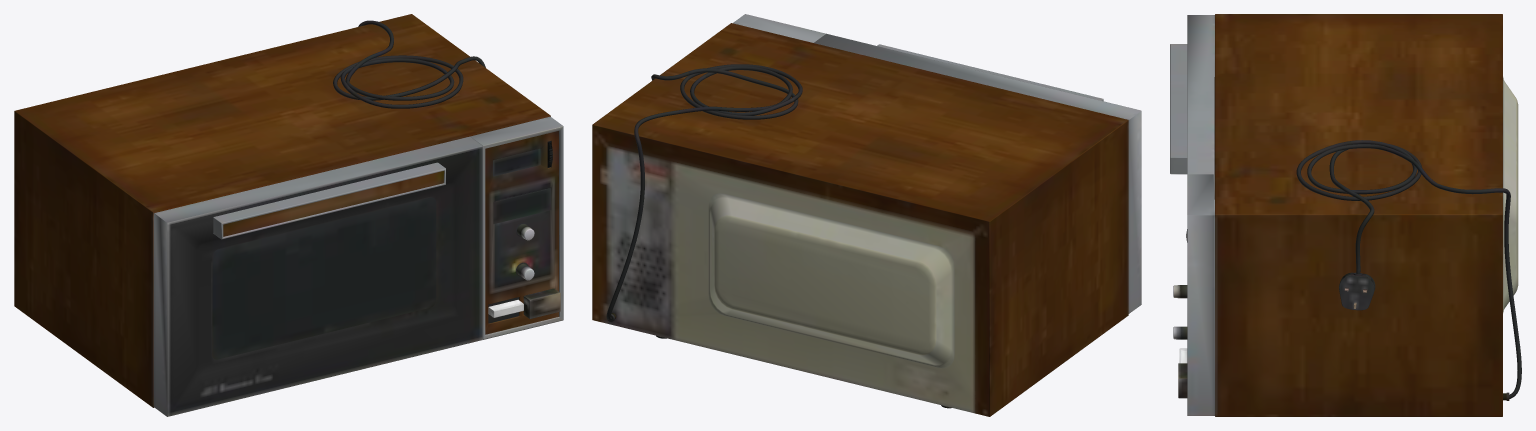
Rendered from microwave.glb.
3 renders of one model, left to right at view 1: azimuth 30°, elevation 25°; view 2: azimuth 150°, elevation 25°; view 3: azimuth 270°, elevation 25°, orthographic. The views are drawn at different scales.
Parts seen in each view (by area): view 1: vintage_microwave; view 2: vintage_microwave; view 3: vintage_microwave.
Boxes of the visible parts, x1,y1,x2,y2 form: vintage_microwave: (14, 14, 563, 416); vintage_microwave: (592, 14, 1141, 416); vintage_microwave: (1170, 14, 1521, 416).
Bounding box in the file's own units: 1.07 × 0.5257 × 0.7455.
Materials: 2 (2 with a texture image).
